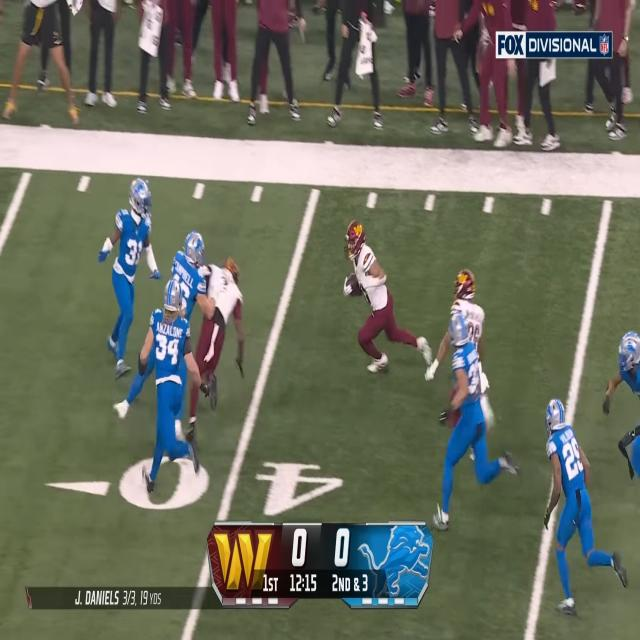Ball: (346, 273, 358, 294)
